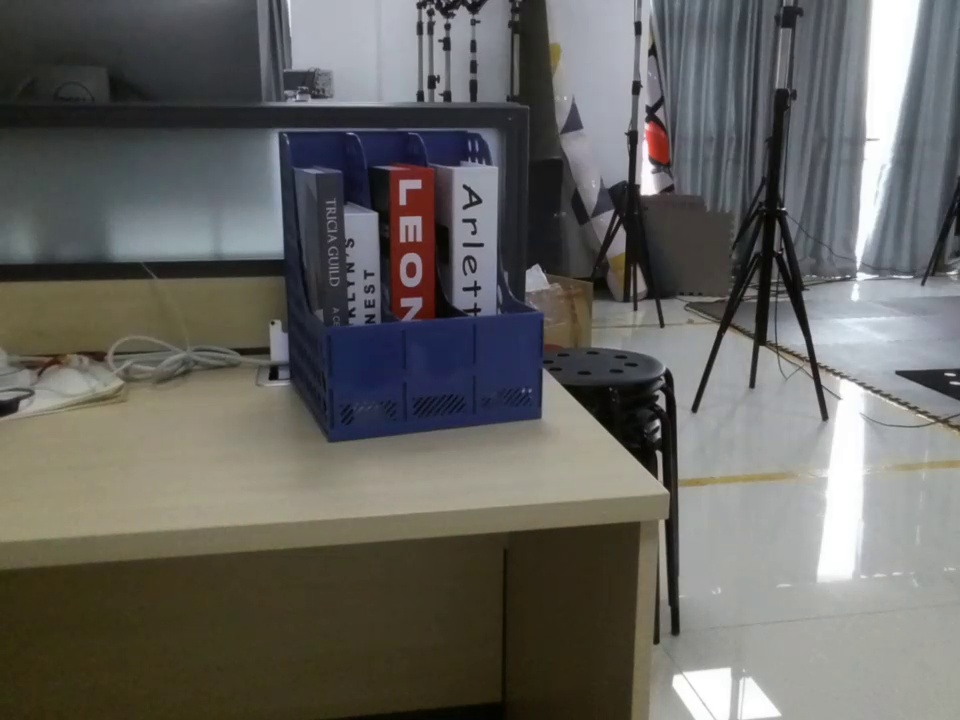files: (274, 125, 544, 445)
